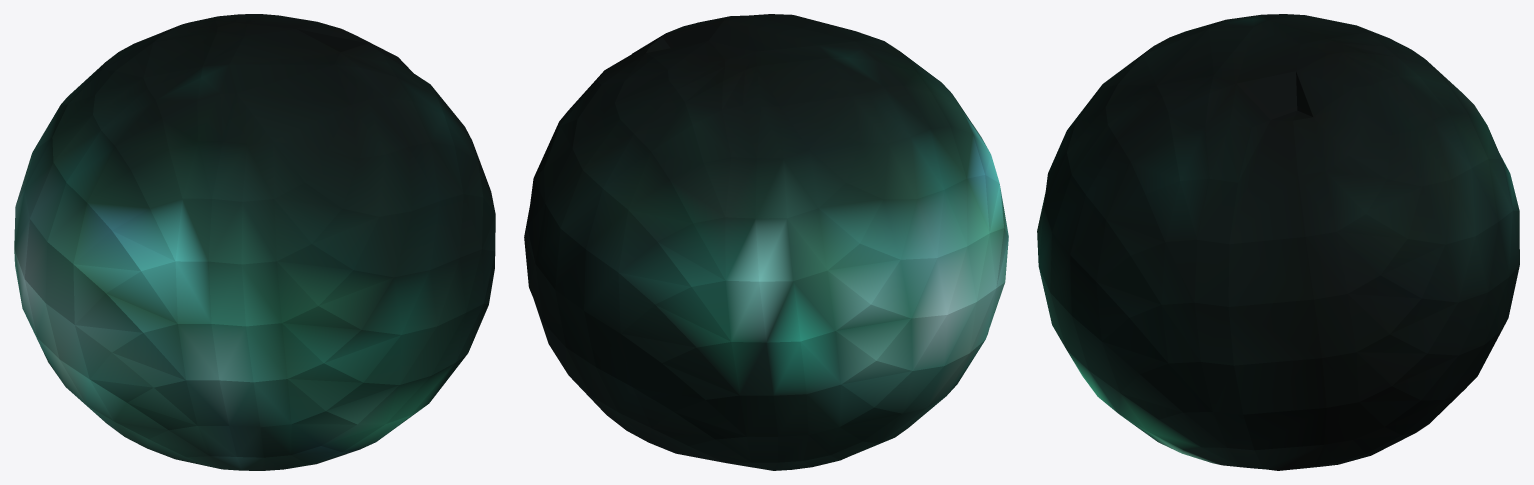
3 renders of one model, left to right at view 1: azimuth 30°, elevation 25°; view 2: azimuth 150°, elevation 25°; view 3: azimuth 270°, elevation 25°, orthographic.
Parts seen in each view (by area): view 1: Curve.001; view 2: Curve.001; view 3: Curve.001.
Boxes of the visible parts, left/top/right/bottom form: Curve.001: left=14, top=14, right=495, bottom=470; Curve.001: left=524, top=14, right=1008, bottom=470; Curve.001: left=1037, top=14, right=1519, bottom=470.
Bounding box in the file's own units: 746 × 679 × 749.
